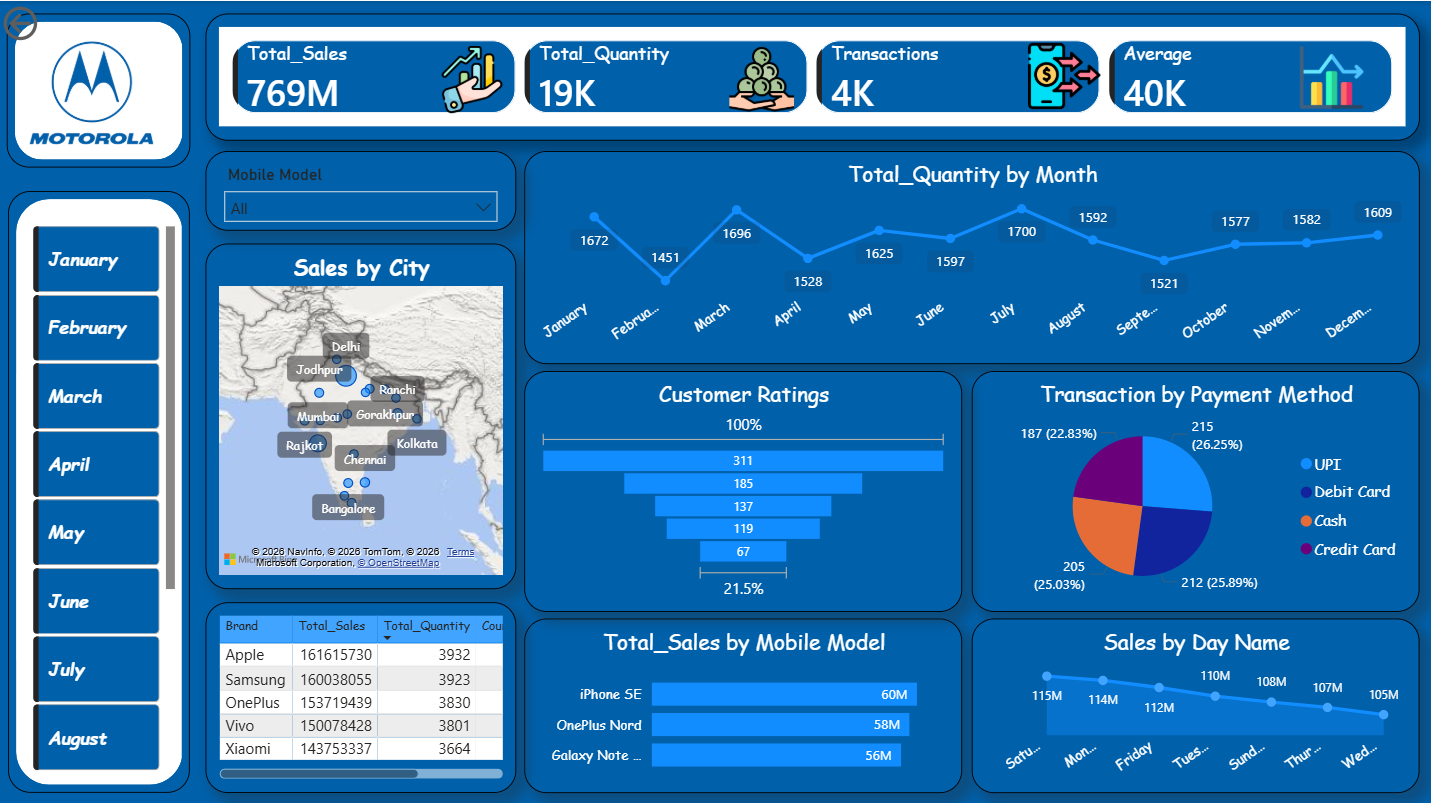

This screenshot's page, from the dashboard's own definition file:
{"tool":"powerbi","page":{"name":"Page 1","canvas":[1280,720],"ordinal":0},"visuals":[{"type":"shape","box":[7.5,11.2,163.8,137.5],"z":0},{"type":"image","box":[26.2,30,113.8,103.8],"z":1000},{"type":"shape","box":[9.3,169.8,162.8,537.2],"z":2000},{"type":"advancedSlicerVisual","fields":{"Values":["Sales_Data.Date.Variation.Date Hierarchy.Month"]},"box":[26.7,196.5,136,498.8],"z":3000},{"type":"cardVisual","fields":{"Data":["Sales_Data.Total_Sales","Sales_Data.Total_Quantity","Sales_Data.Transactions","Sales_Data.Average"]},"box":[185,11.2,1085,113.8],"z":4000},{"type":"image","box":[377.5,40,92.5,60],"z":5000},{"type":"image","box":[612.5,38.8,138.8,61.2],"z":6000},{"type":"image","box":[883.8,35,138.8,65],"z":7000},{"type":"image","box":[1145,40,93.8,56.2],"z":8000},{"type":"map","title":"Sales by City","fields":{"Category":["Sales_Data.City"],"Size":["Sales_Data.Total_Sales"]},"box":[185,216.2,277.5,308.8],"z":9000},{"type":"actionButton","box":[0,0,100,40],"z":10000},{"type":"lineChart","fields":{"Y":["Sales_Data.Total_Quantity"],"Category":["Sales_Data.Date.Variation.Date Hierarchy.Month"]},"box":[470,133.8,800,190],"z":11000},{"type":"clusteredBarChart","fields":{"Category":["Sales_Data.Mobile Model"],"Y":["Sales_Data.Total_Sales"]},"box":[470,551.2,391.2,156.2],"z":12000},{"type":"pieChart","title":"Transaction by Payment Method","fields":{"Category":["Sales_Data.Payment Method"],"Y":["CountNonNull(Sales_Data.Transaction ID)"]},"box":[870,330,400,215],"z":12001},{"type":"funnel","title":"Customer Ratings","fields":{"Y":["CountNonNull(Sales_Data.Customer Ratings)"],"Category":["Sales_Data.Customer Ratings"]},"box":[470,330,391.2,215],"z":12002},{"type":"areaChart","title":"Sales by Day Name","fields":{"Category":["Sales_Data.Day Name"],"Y":["Sales_Data.Total_Sales"]},"box":[870,551.2,400,156.2],"z":12003},{"type":"tableEx","fields":{"Values":["Sales_Data.Brand","Sales_Data.Total_Sales","Sales_Data.Total_Quantity","CountNonNull(Sales_Data.Transaction ID)"]},"box":[185,537.5,277.5,170],"z":12004},{"type":"slicer","fields":{"Values":["Sales_Data.Mobile Model"]},"box":[185,133.8,277.5,71.2],"z":12005}]}

Visuals, with their boxes in screenshot pixels (x1, y1, x2, y2), scaled from the page's 1280x720 canvas onto the 1431x803 screenshot:
shape: BBox(8, 12, 192, 166)
image: BBox(29, 33, 157, 149)
shape: BBox(10, 189, 192, 789)
advancedSlicerVisual - Sales_Data.Date.Variation.Date Hierarchy.Month: BBox(30, 219, 182, 775)
cardVisual - Sales_Data.Total_Sales x Sales_Data.Total_Quantity: BBox(207, 12, 1420, 139)
image: BBox(422, 45, 525, 112)
image: BBox(685, 43, 840, 112)
image: BBox(988, 39, 1143, 112)
image: BBox(1280, 45, 1385, 107)
"Sales by City" map: BBox(207, 241, 517, 586)
actionButton: BBox(0, 0, 112, 45)
lineChart - Sales_Data.Total_Quantity x Sales_Data.Date.Variation.Date Hierarchy.Month: BBox(525, 149, 1420, 361)
clusteredBarChart - Sales_Data.Mobile Model x Sales_Data.Total_Sales: BBox(525, 615, 963, 789)
"Transaction by Payment Method" pieChart: BBox(973, 368, 1420, 608)
"Customer Ratings" funnel: BBox(525, 368, 963, 608)
"Sales by Day Name" areaChart: BBox(973, 615, 1420, 789)
tableEx - Sales_Data.Brand x Sales_Data.Total_Sales: BBox(207, 599, 517, 789)
slicer - Sales_Data.Mobile Model: BBox(207, 149, 517, 229)
